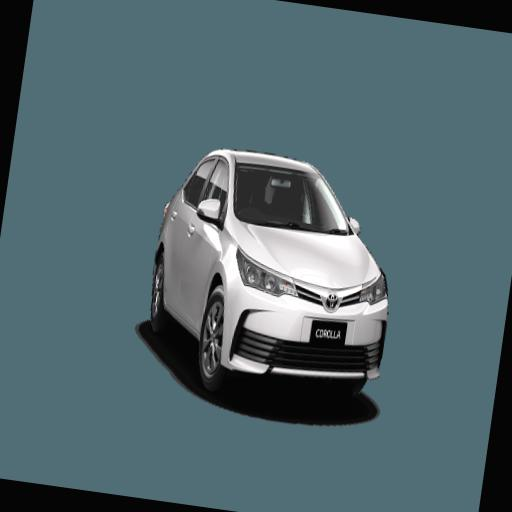Sedan-sDLz: (152, 150, 388, 405)
